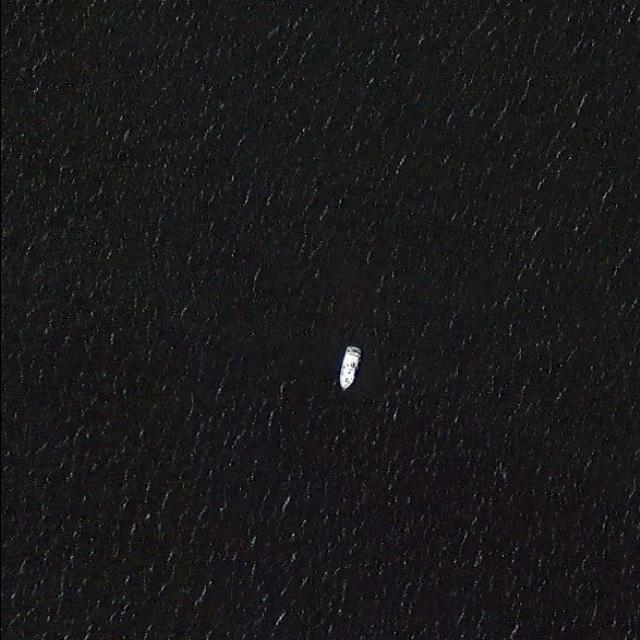ship: (335, 344, 365, 394)
